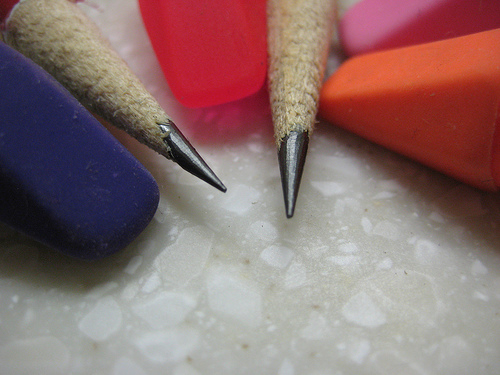pen_tip: (251, 1, 345, 252)
